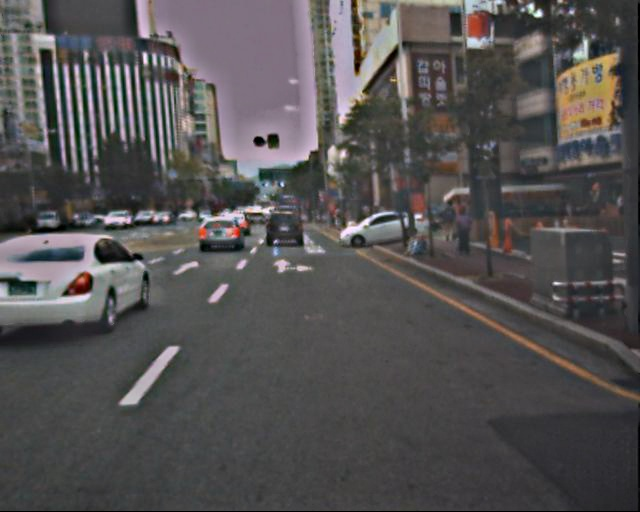person: (453, 204, 475, 258), (440, 199, 458, 244)
